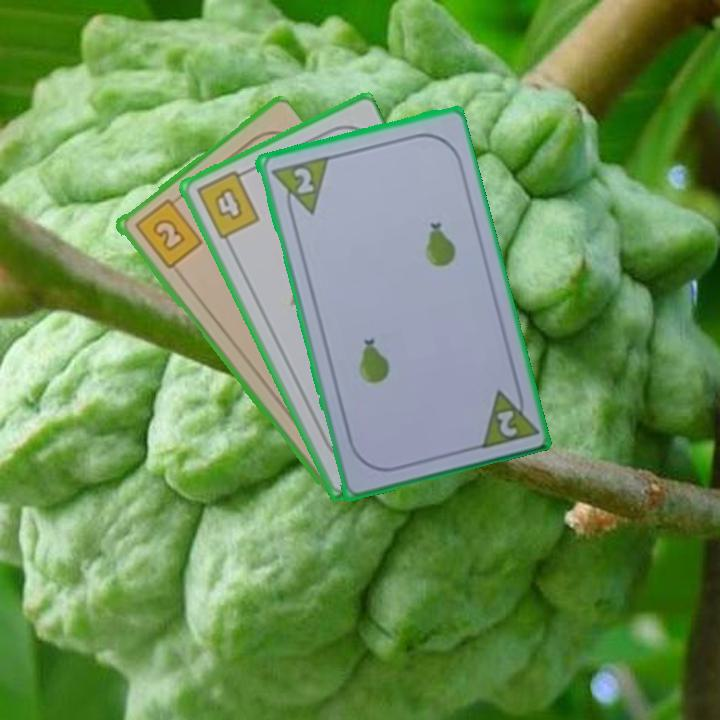2b: (130, 192, 205, 272)
2p: (474, 380, 539, 451), (266, 152, 331, 222)
4b: (192, 165, 263, 242)
